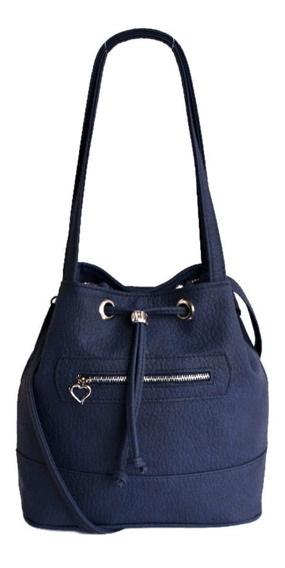cartera: (18, 27, 271, 534)
